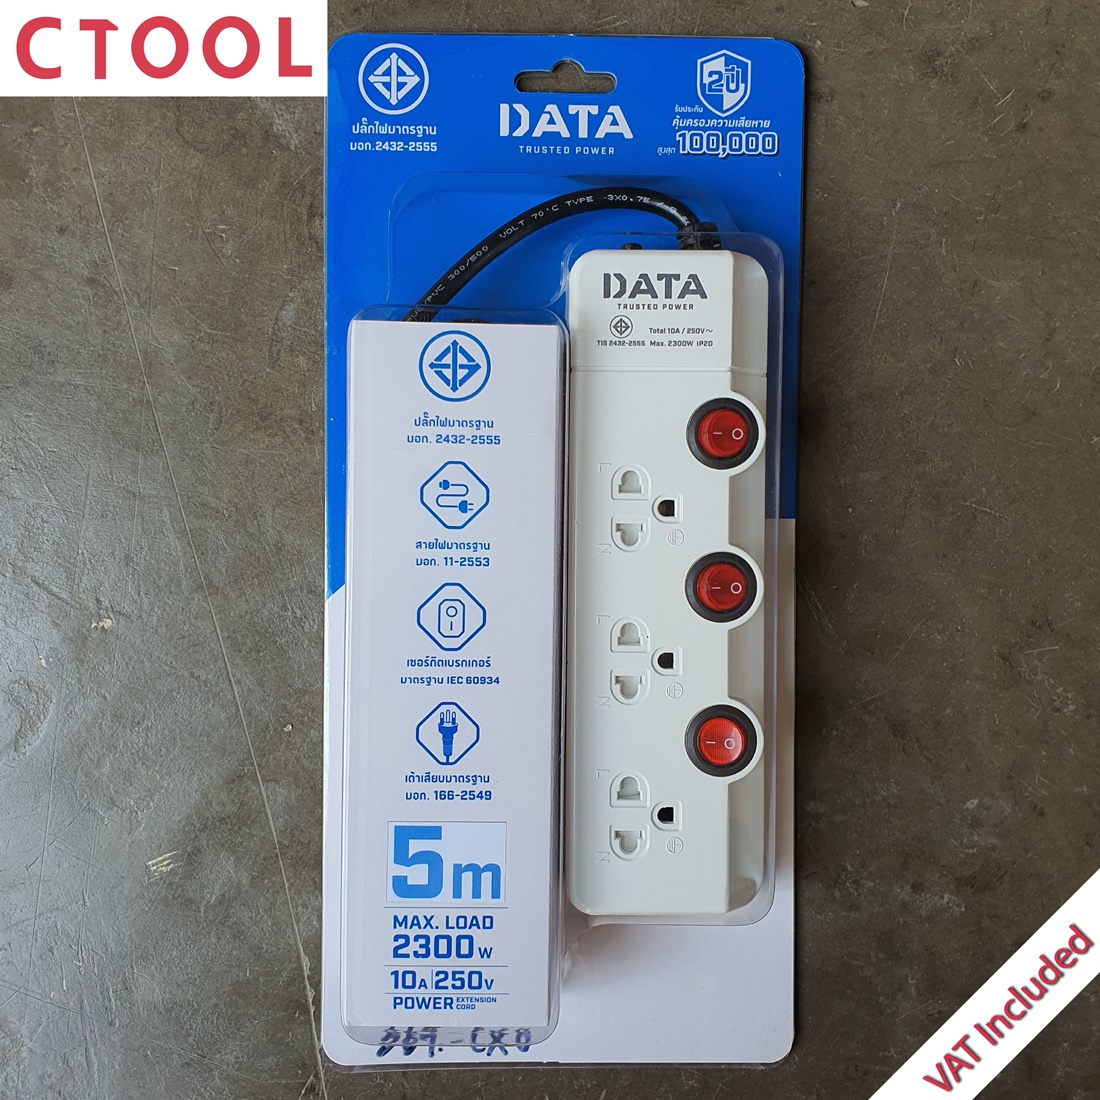Three_eye_plug: (541, 204, 775, 933)
